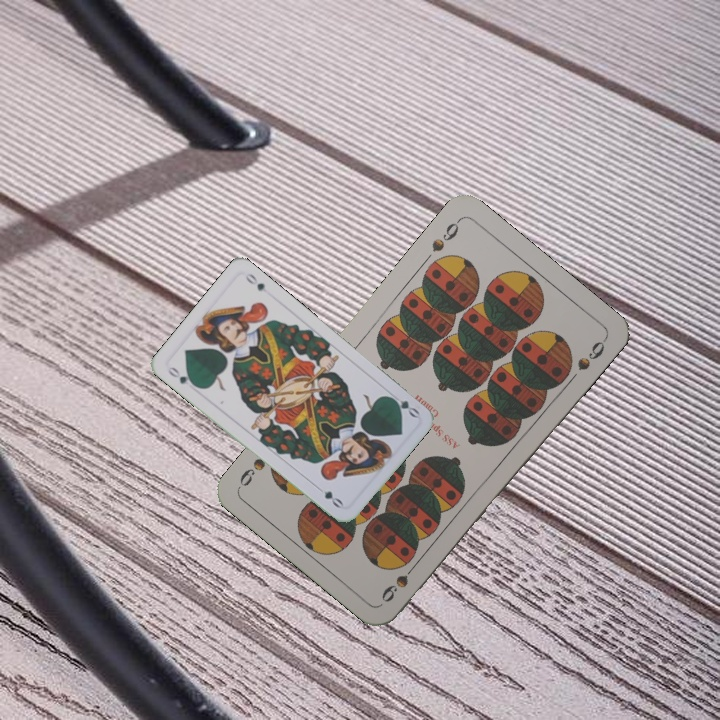GO: (384, 389, 422, 420), (164, 362, 200, 390)
S9: (377, 556, 422, 605), (427, 215, 463, 255)
